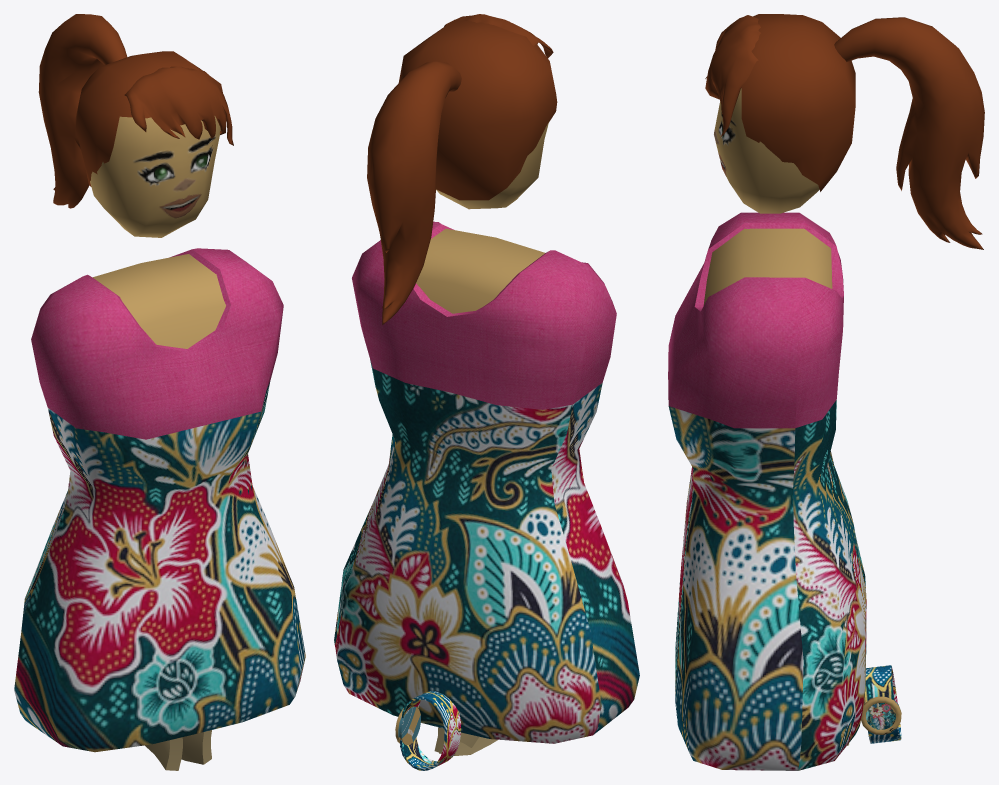
The model's file is Avatar2.fbx.
3 views of the same model, side by side, from view 1: azimuth 30°, elevation 25°; view 2: azimuth 150°, elevation 25°; view 3: azimuth 270°, elevation 25° (orthographic). The views are drawn at different scales.
Parts seen in each view (by area): view 1: Body2, Hair2, Head2, HandR, HandL; view 2: Body2, Hair2, Watch, Head2, HandL; view 3: Body2, Hair2, Head2, Watch.
Part boxes in pixels (x1,y1,x2,y2): Body2: (14, 248, 305, 752); Hair2: (38, 14, 233, 208); Head2: (90, 116, 220, 237); HandR: (181, 730, 211, 764); HandL: (145, 737, 182, 770); Body2: (334, 221, 639, 743); Hair2: (367, 14, 557, 324); Watch: (395, 691, 461, 770); Head2: (436, 122, 548, 209); HandL: (438, 727, 497, 755); Body2: (668, 212, 866, 770); Hair2: (705, 14, 984, 249); Head2: (714, 88, 819, 213); Watch: (861, 665, 901, 743).
Bounding box in the file's own units: 0.439 × 1.13 × 0.4398.
Materials: 4 (2 with a texture image).
